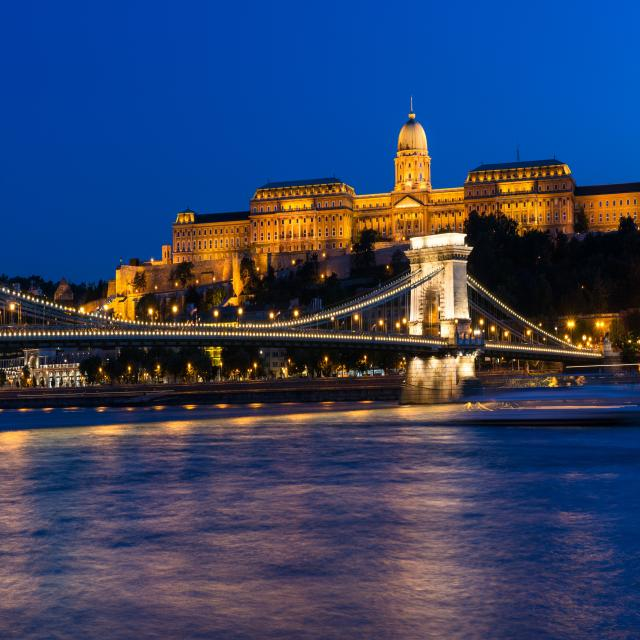Street Light: (10, 302, 22, 328), (596, 321, 604, 346), (568, 321, 574, 345), (504, 331, 511, 346), (355, 314, 360, 331), (325, 356, 328, 378), (527, 330, 531, 346), (282, 367, 287, 379), (220, 363, 223, 382), (364, 356, 367, 374), (248, 368, 252, 381), (128, 367, 131, 384), (144, 372, 148, 384), (254, 364, 257, 379), (28, 378, 32, 389), (80, 376, 84, 387), (100, 368, 102, 387), (66, 376, 69, 387), (10, 379, 13, 387)
